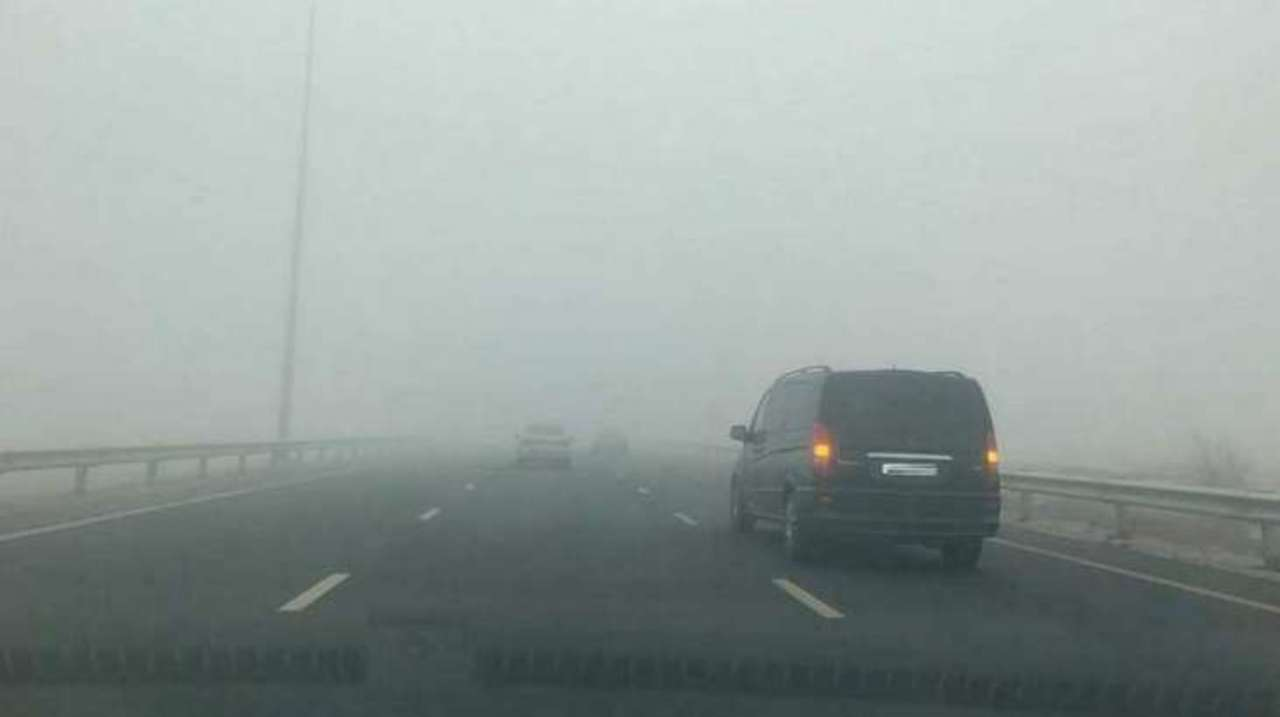car: (729, 369, 1010, 573), (514, 422, 572, 470), (589, 426, 631, 459)
